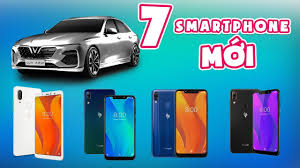vsmart: (173, 87, 211, 159), (149, 89, 184, 159), (249, 89, 283, 155), (104, 92, 136, 160), (82, 87, 114, 155), (35, 88, 65, 159)
